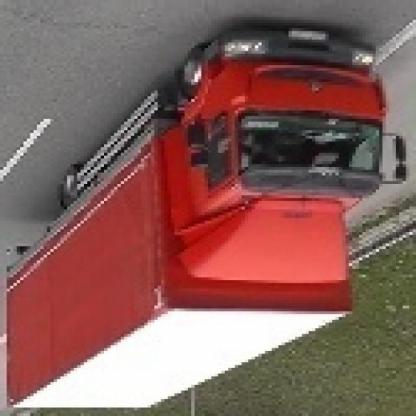truck: (1, 29, 403, 414)
